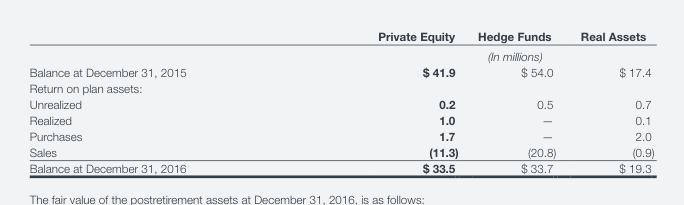table: (28, 28, 653, 174)
table column: (28, 28, 281, 174), (281, 28, 467, 174), (467, 28, 567, 174), (567, 28, 653, 174)
table column header: (28, 28, 653, 63)
table projected row header: (28, 79, 653, 95)
table row: (28, 45, 653, 63), (28, 28, 653, 45), (28, 63, 653, 79), (28, 79, 653, 95), (28, 95, 653, 111), (28, 111, 653, 127), (28, 127, 653, 143), (28, 143, 653, 159), (28, 159, 653, 174)
table spanning cell: (281, 45, 653, 63)
